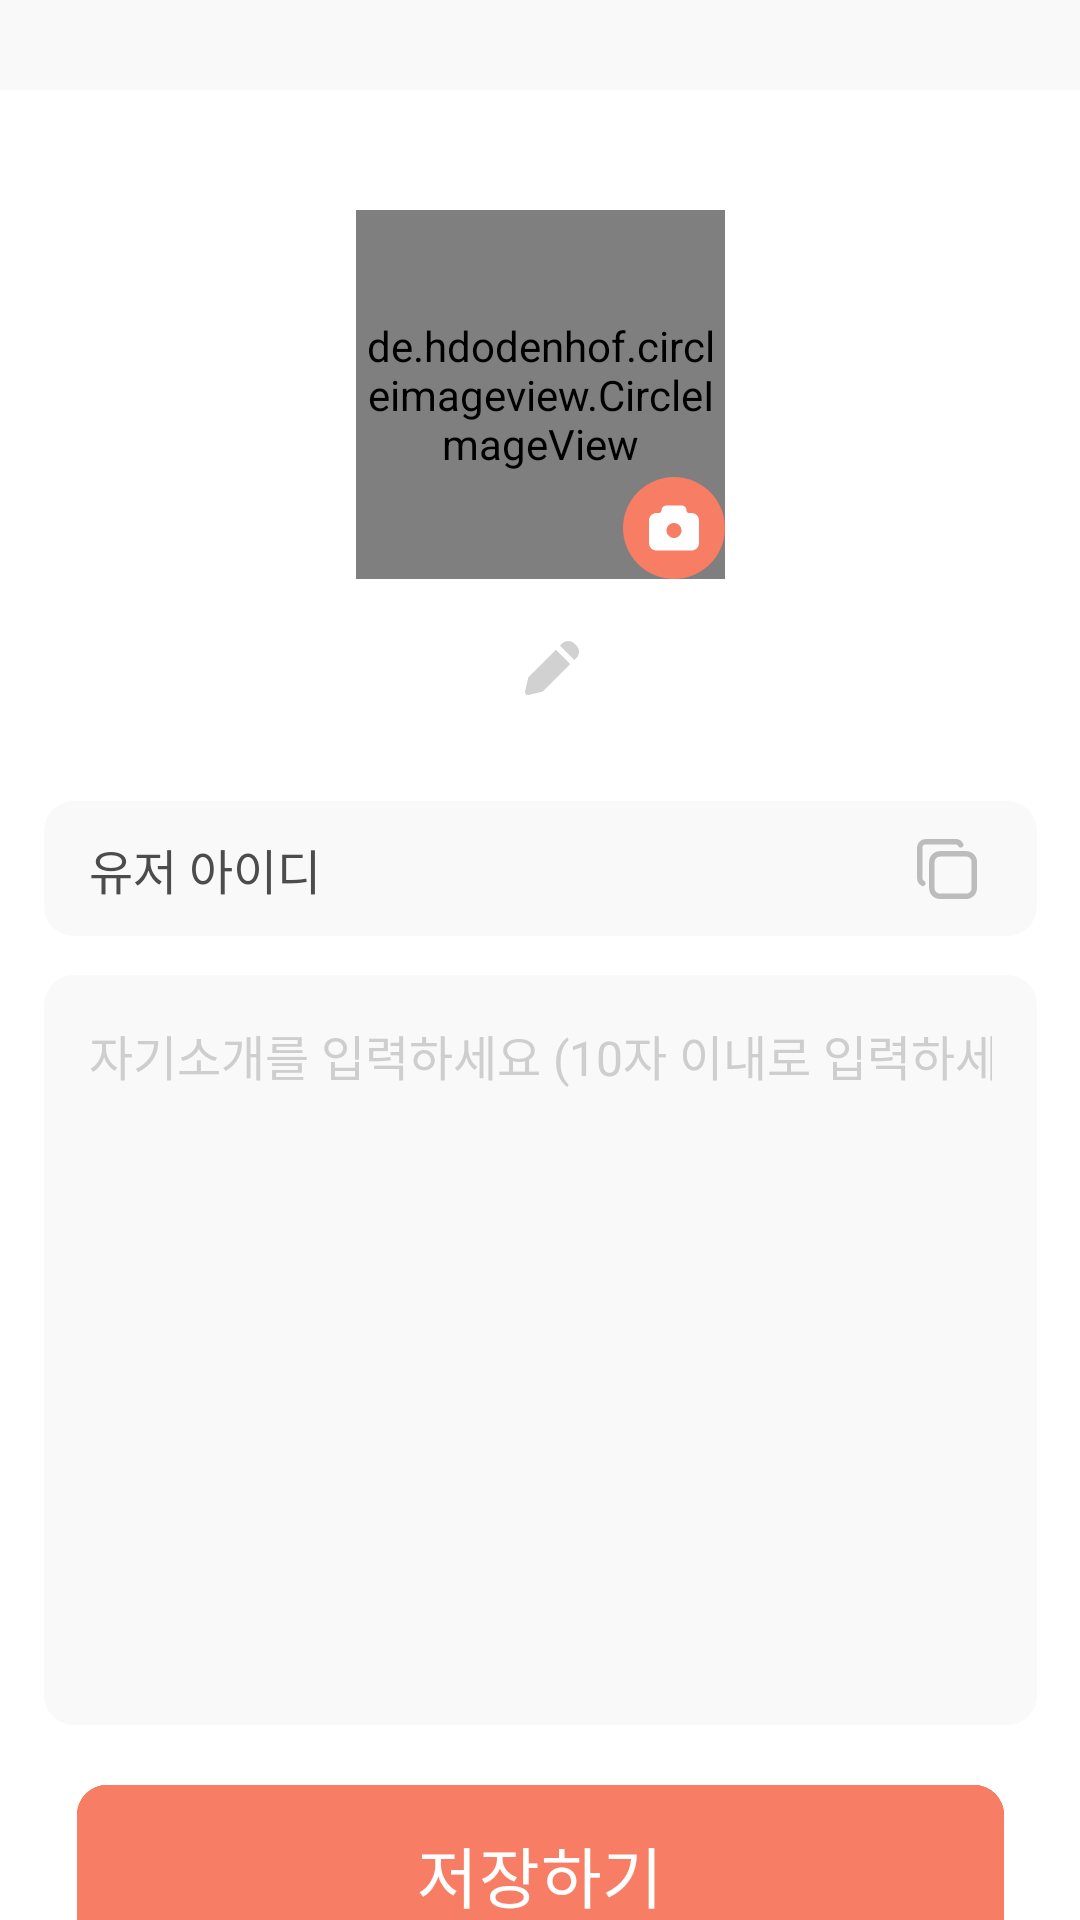

Icon click points for this 1080w x 1920h phone screenshot, format [x,y]:
camera: [674,528]
edit nickname pencil: [552,668]
